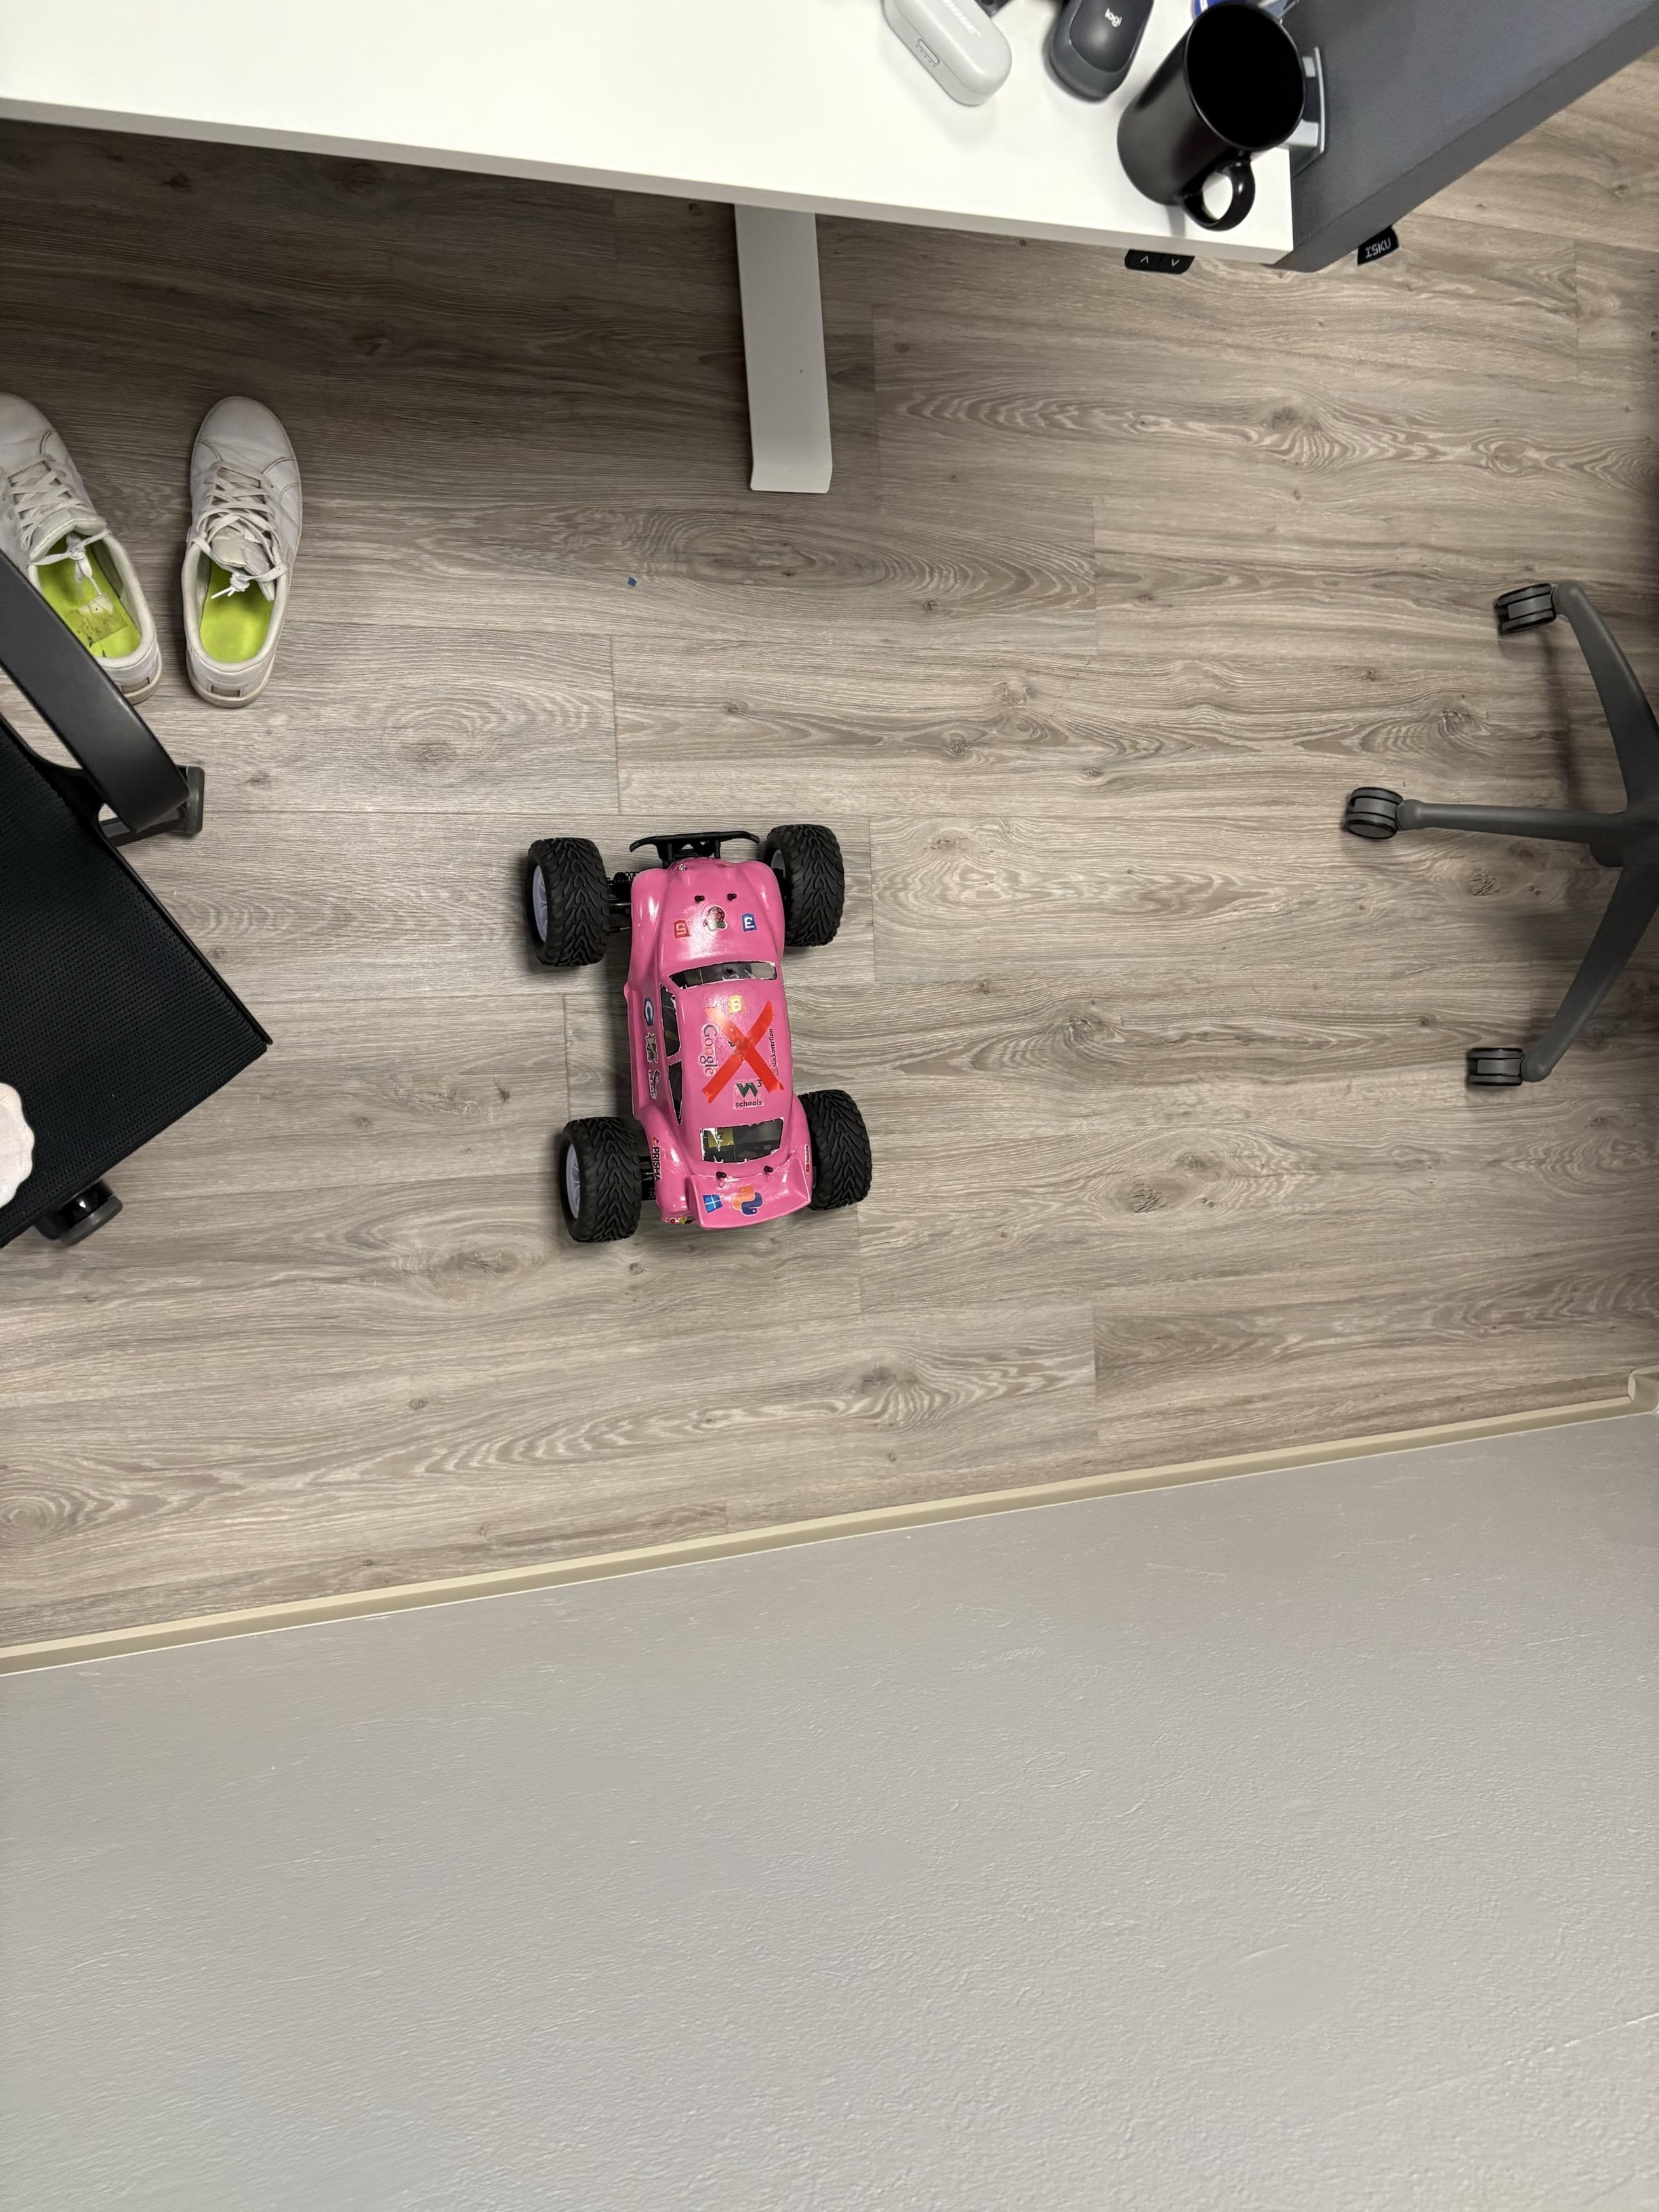Car: (484, 725, 929, 1322)
